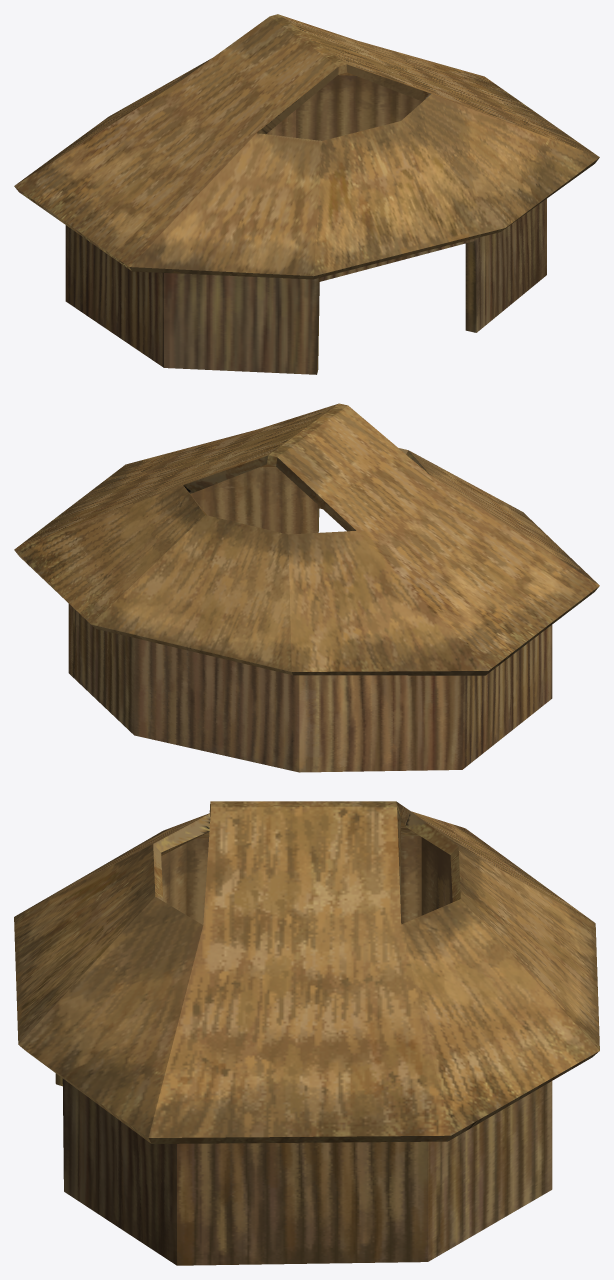
File: Maloca.fbx
3 views of the same model, one above another, from view 1: azimuth 30°, elevation 25°; view 2: azimuth 150°, elevation 25°; view 3: azimuth 270°, elevation 25° (orthographic). The views are drawn at different scales.
Parts seen in each view (by area): view 1: Techo, Paredes; view 2: Techo, Paredes; view 3: Techo, Paredes.
Boxes of the visible parts, x1,y1,x2,y2 form: Techo: (14, 14, 599, 279); Paredes: (65, 72, 546, 374); Techo: (14, 403, 599, 675); Paredes: (68, 464, 552, 772); Techo: (14, 801, 599, 1143); Paredes: (55, 836, 552, 1265).
Bounding box in the file's own units: 734 × 370 × 587.
2 materials, 2 textured.
